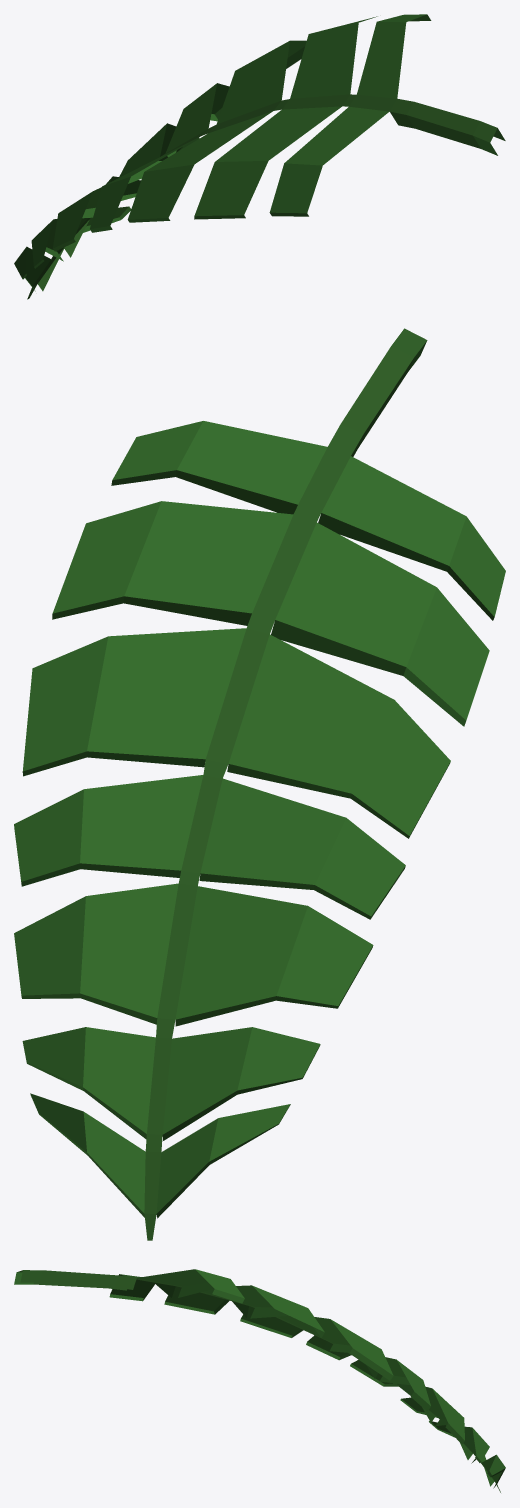
File: justleaf.fbx
The picture shows the model from 3 angles, top to bottom: view 1: azimuth 30°, elevation 25°; view 2: azimuth 150°, elevation 25°; view 3: azimuth 270°, elevation 25°; orthographic projection. The views are drawn at different scales.
Parts seen in each view (by area): view 1: polySurface173; view 2: polySurface173; view 3: polySurface173.
Part boxes in pixels (bbox=[...]): polySurface173: bbox=[14, 14, 505, 299]; polySurface173: bbox=[14, 328, 505, 1240]; polySurface173: bbox=[14, 1269, 505, 1492].
Size of the model in its own units: 1.3 by 1.83 by 2.86.
